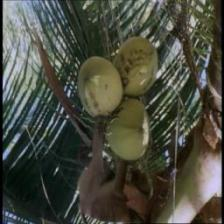monkey: (125, 166, 151, 196)
